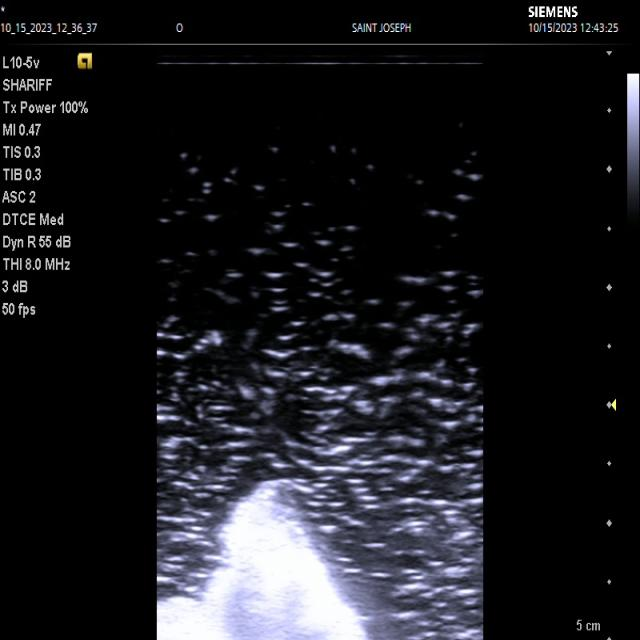tissue: (157, 483, 369, 640)
